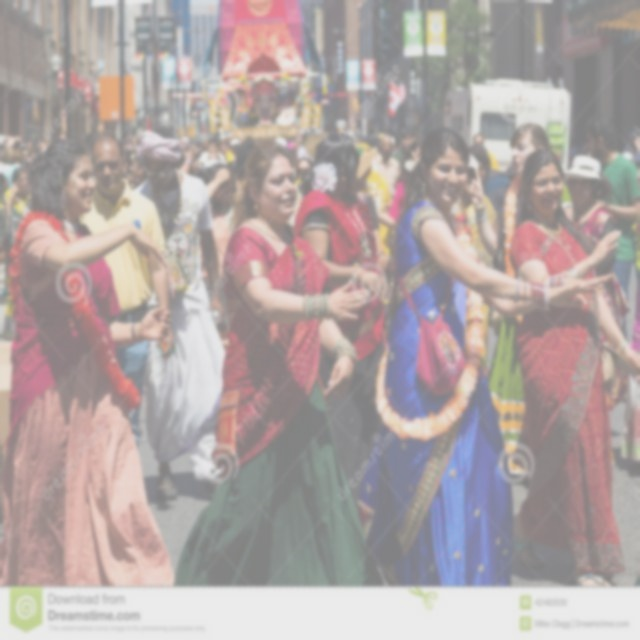pessoa: (378, 126, 594, 588), (190, 132, 376, 640), (8, 137, 176, 586), (506, 145, 640, 609), (291, 138, 394, 510), (130, 127, 227, 503), (76, 130, 178, 452), (562, 154, 628, 414), (584, 110, 640, 347), (468, 121, 552, 259), (198, 160, 240, 354), (467, 140, 524, 278), (0, 165, 34, 341), (181, 130, 250, 168), (370, 133, 402, 198), (0, 136, 48, 165), (122, 136, 144, 188), (473, 132, 500, 172), (393, 132, 420, 165), (624, 122, 640, 170), (294, 152, 314, 190)
